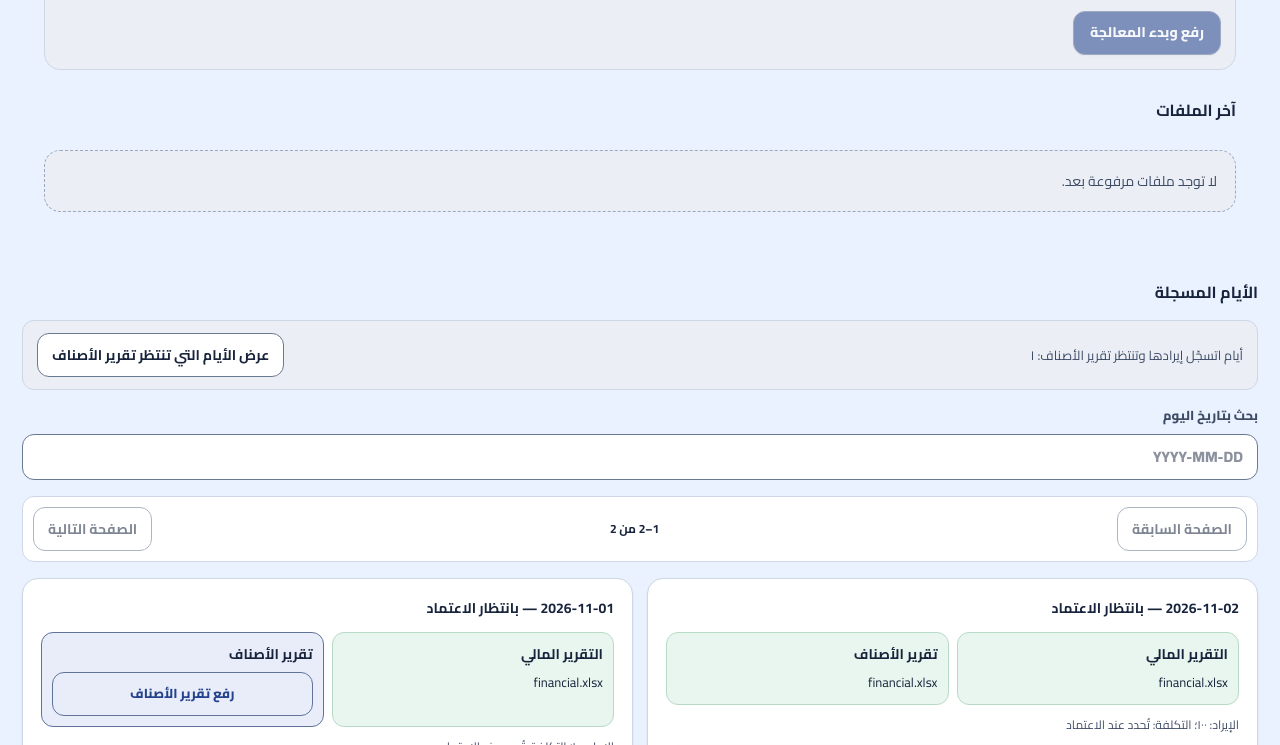
it: finds financial-only days and opens the original item-report upload for the selected date
This screenshot has width=1280, height=745.
(page scrolled)
expect the text "لا توجد ملفات مرفوعة بعد." is shown: met, box left=44, top=150, right=1236, bottom=212
Click the button "عرض الأيام التي تنتظر تقرير الأصناف": point(161, 355) left=37, top=333, right=284, bottom=377
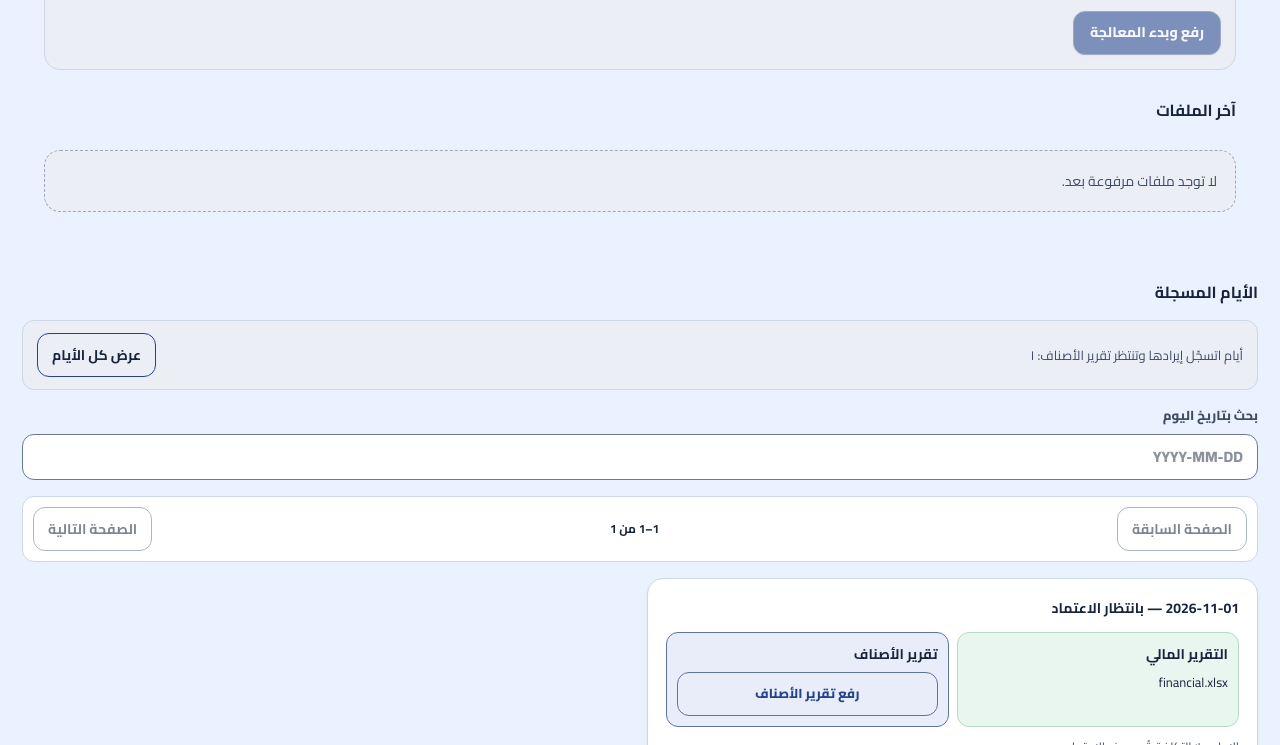
expect the heading "2026-11-01 — بانتظار الاعتماد" is shown: met, box left=1052, top=595, right=1239, bottom=621
expect the heading "2026-11-02" is gone: met
Click the button "رفع تقرير الأصناف": point(807, 694) left=677, top=672, right=938, bottom=716
(page scrolled)
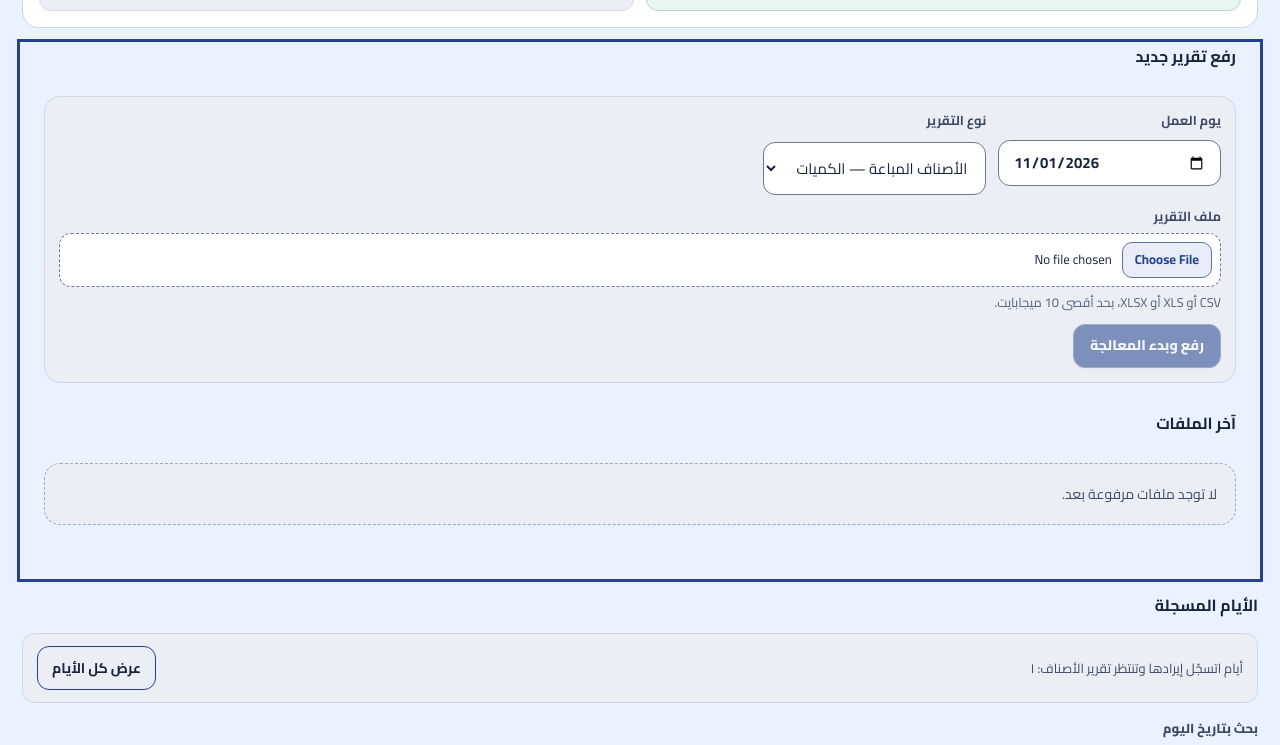
expect the text "لا توجد ملفات مرفوعة بعد." is shown: met, box left=44, top=463, right=1236, bottom=525
expect the date field labelled "يوم العمل" holds "2026-11-01": met, box left=998, top=140, right=1221, bottom=186
expect the dropdown labelled "نوع التقرير" shows "الأصناف المباعة — الكميات": met, box left=763, top=142, right=986, bottom=195
